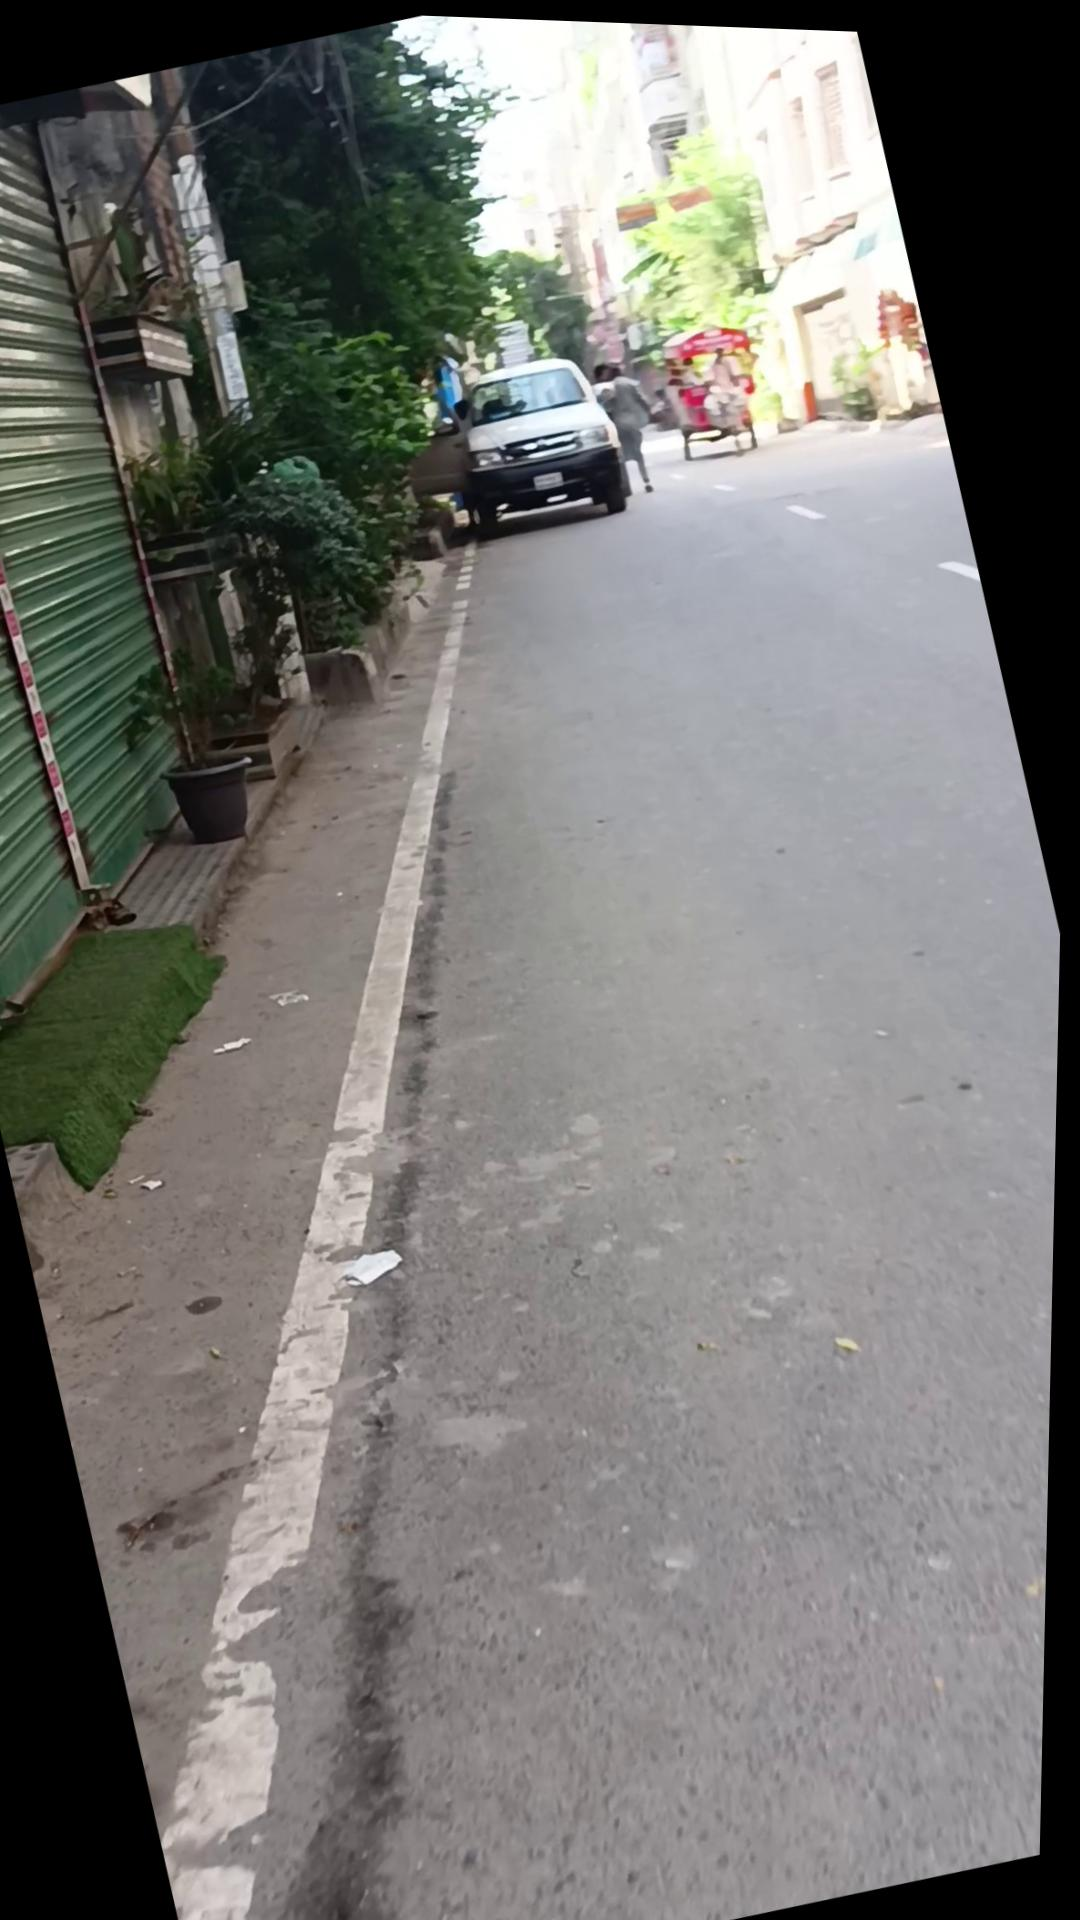Bollard: (388, 334, 644, 556)
Broken-road: (0, 687, 426, 1221), (261, 541, 472, 727)
Curb: (587, 348, 674, 496)
Fallen-tree: (214, 435, 418, 725), (120, 632, 297, 865), (135, 152, 315, 364), (113, 418, 243, 578), (820, 323, 907, 422), (397, 485, 467, 562)
Muddy road: (653, 309, 779, 464)
